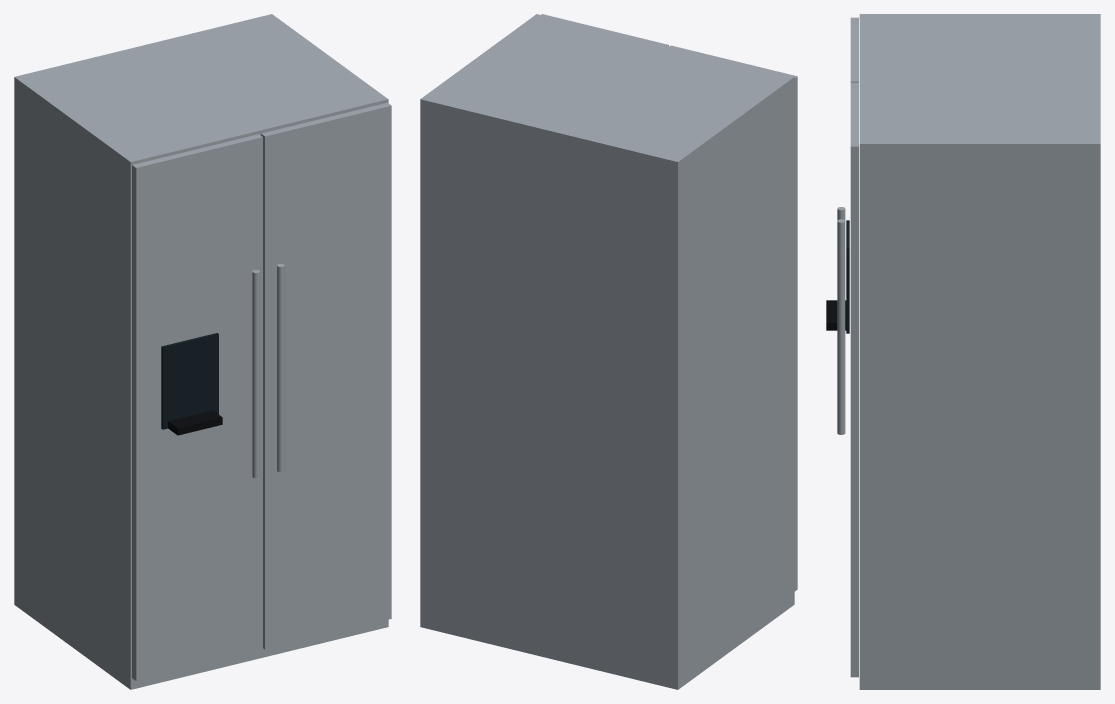
The model's file is Huto_side_by_side.obj.
3 renders of one model, left to right at view 1: azimuth 30°, elevation 25°; view 2: azimuth 150°, elevation 25°; view 3: azimuth 270°, elevation 25°, orthographic. The views are drawn at different scales.
Bounding box in the file's own units: 0.92 × 1.8 × 0.82.
